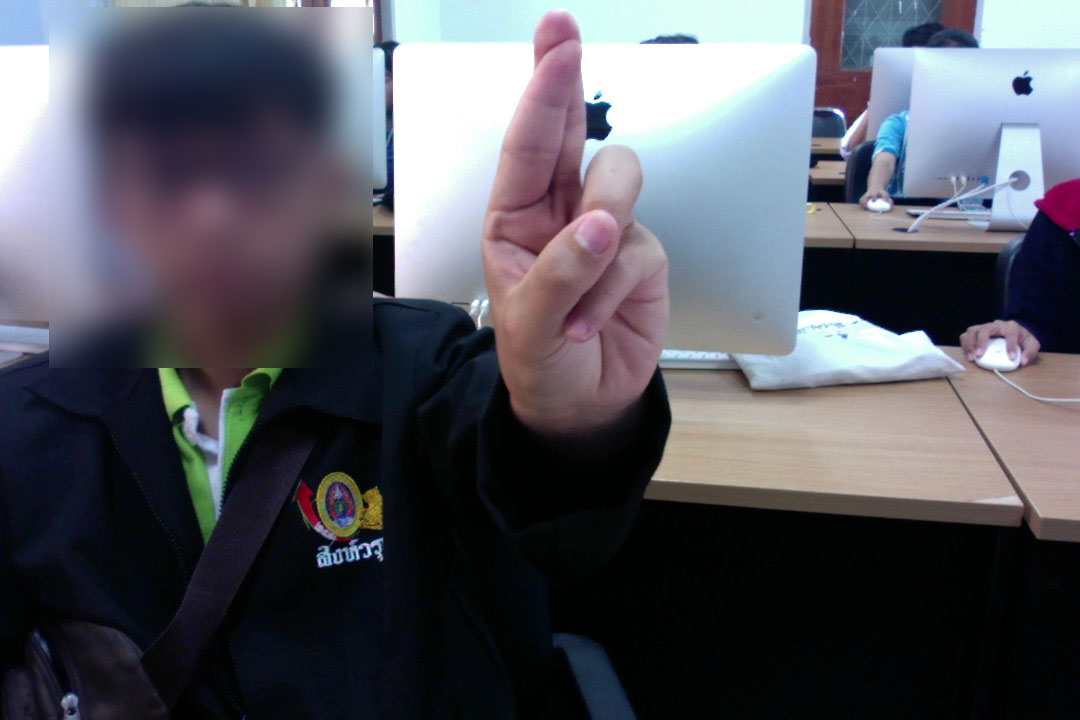rao: (467, 2, 677, 425)
